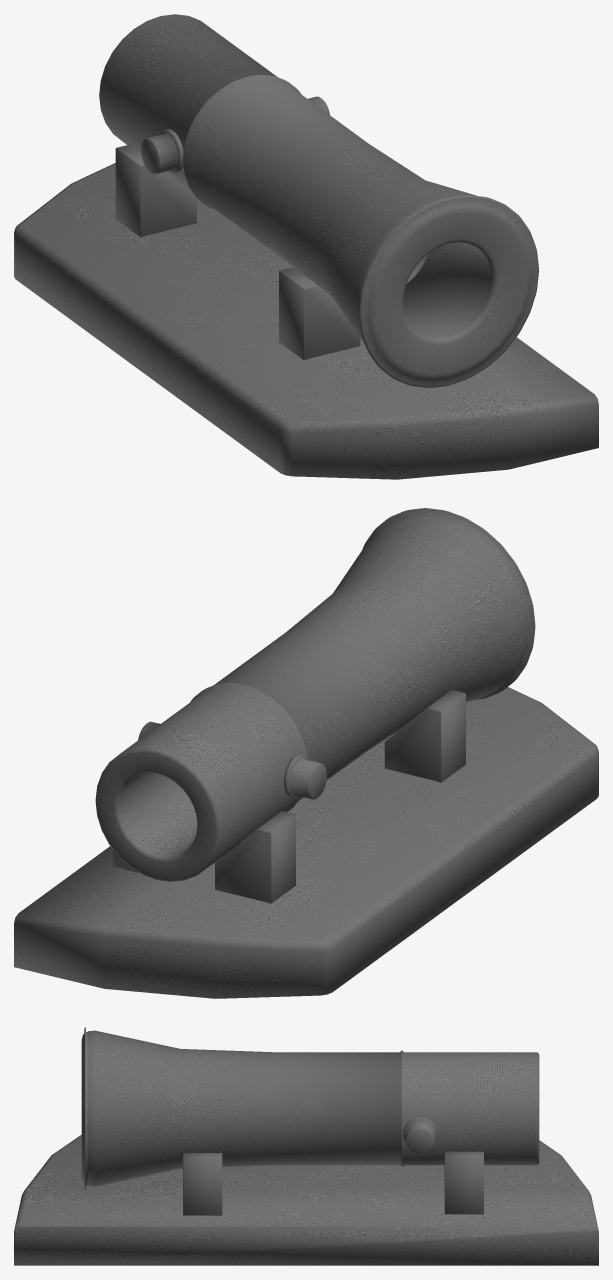
The model's file is suv.glb.
The picture shows the model from 3 angles, top to bottom: view 1: azimuth 30°, elevation 25°; view 2: azimuth 150°, elevation 25°; view 3: azimuth 270°, elevation 25°; orthographic projection. The views are drawn at different scales.
Parts seen in each view (by area): view 1: СУВ; view 2: СУВ; view 3: СУВ.
Boxes of the visible parts, left/top/right/bottom form: СУВ: left=14, top=14, right=598, bottom=479; СУВ: left=14, top=508, right=598, bottom=998; СУВ: left=14, top=1027, right=598, bottom=1265.
Bounding box in the file's own units: 0.6541 × 0.5832 × 1.59.
1 material, 1 textured.
